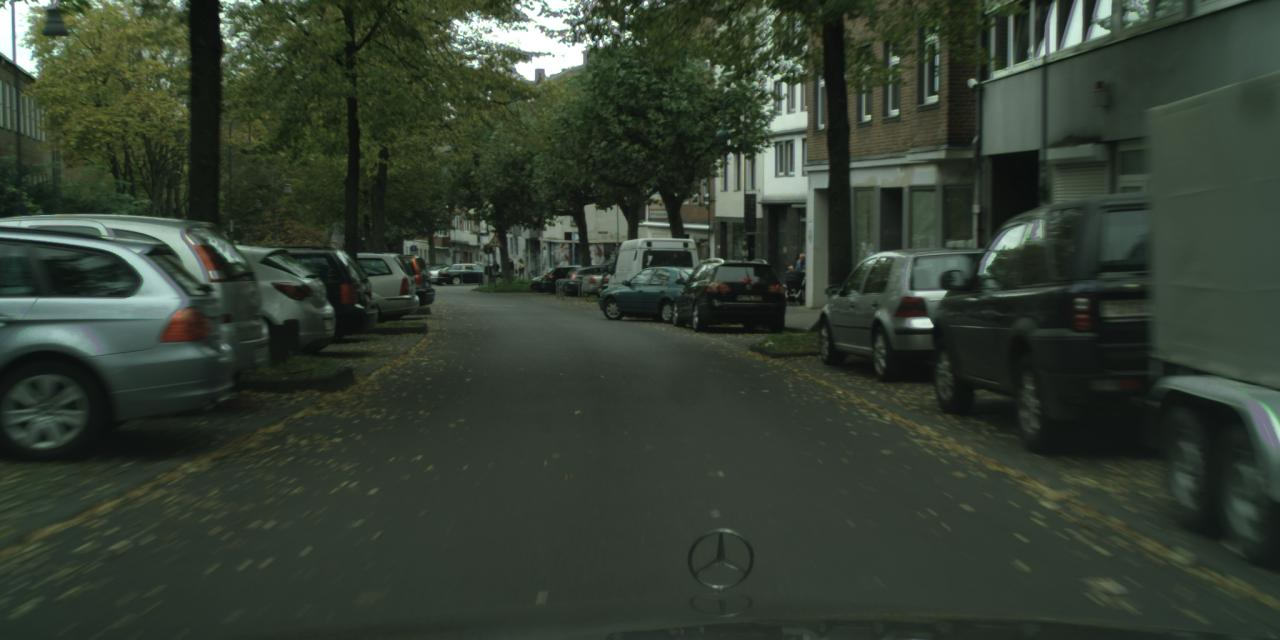ped: (793, 253, 811, 296), (515, 257, 525, 282), (507, 258, 514, 278), (491, 260, 498, 278)
